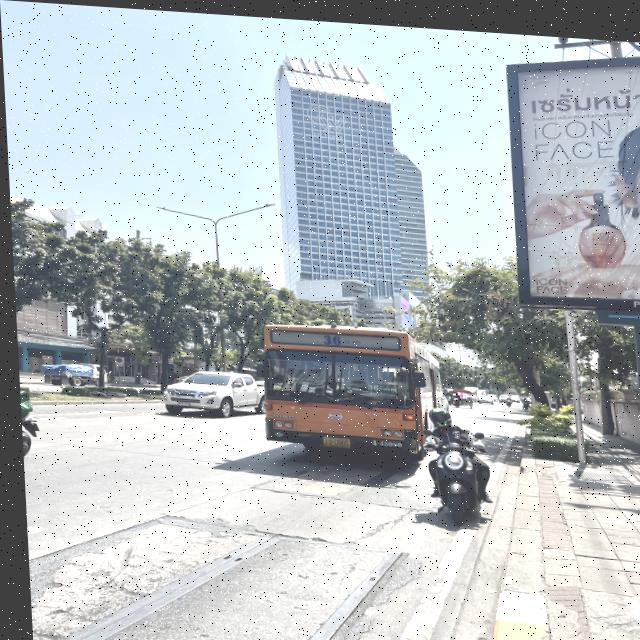BMTA-bus: (255, 316, 433, 455)
Bus-Line-Number: (315, 328, 360, 344)
Destination-Sign-Normal: (362, 377, 395, 394)
